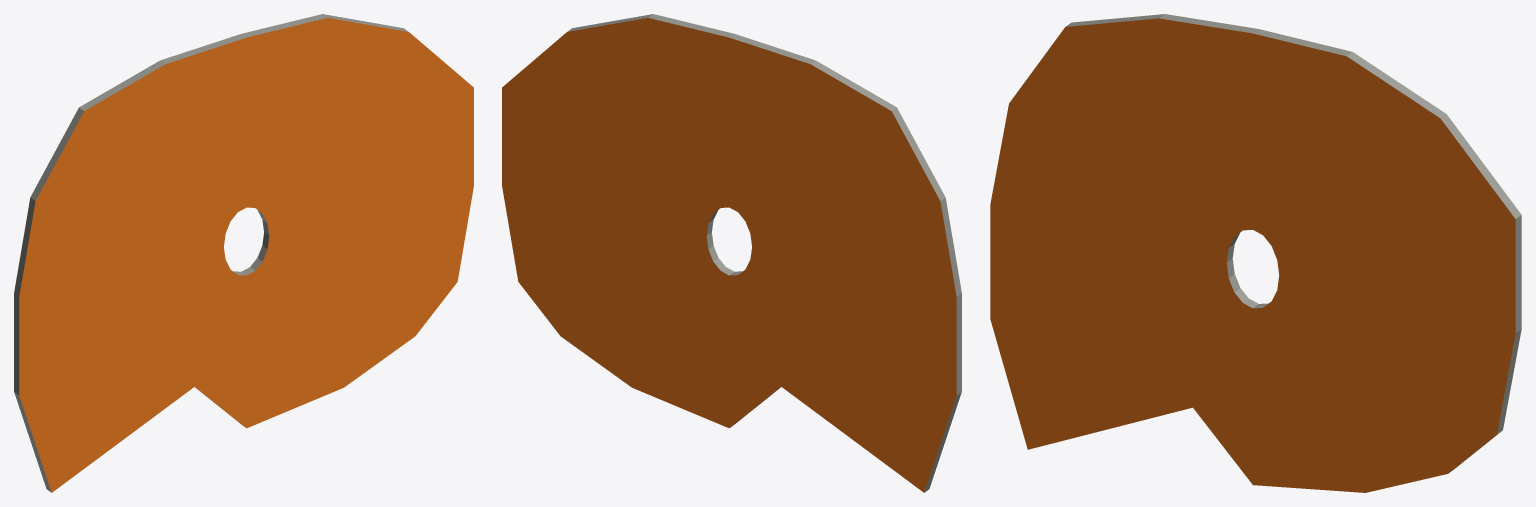
The model's file is item_palette.obj.
3 views of the same model, side by side, from view 1: azimuth 30°, elevation 25°; view 2: azimuth 150°, elevation 25°; view 3: azimuth 330°, elevation 25° (orthographic). The views are drawn at different scales.
Parts seen in each view (by area): view 1: wooden_palette_with_open_thumb_hole_and_grip_notch; view 2: wooden_palette_with_open_thumb_hole_and_grip_notch; view 3: wooden_palette_with_open_thumb_hole_and_grip_notch.
Part boxes in pixels (bbox=[...]): wooden_palette_with_open_thumb_hole_and_grip_notch: bbox=[14, 14, 473, 492]; wooden_palette_with_open_thumb_hole_and_grip_notch: bbox=[502, 14, 961, 492]; wooden_palette_with_open_thumb_hole_and_grip_notch: bbox=[990, 14, 1521, 492].
Size of the model in its own units: 0.875 by 0.75 by 0.0175.
